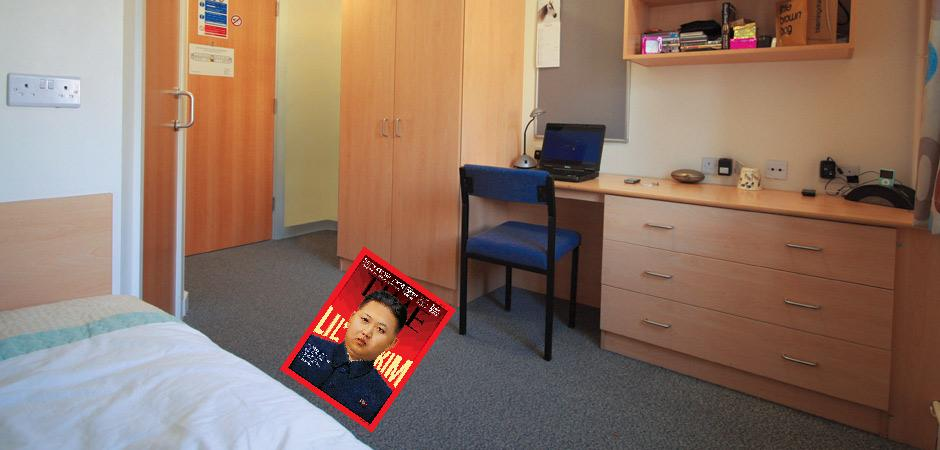times: (278, 245, 459, 436)
